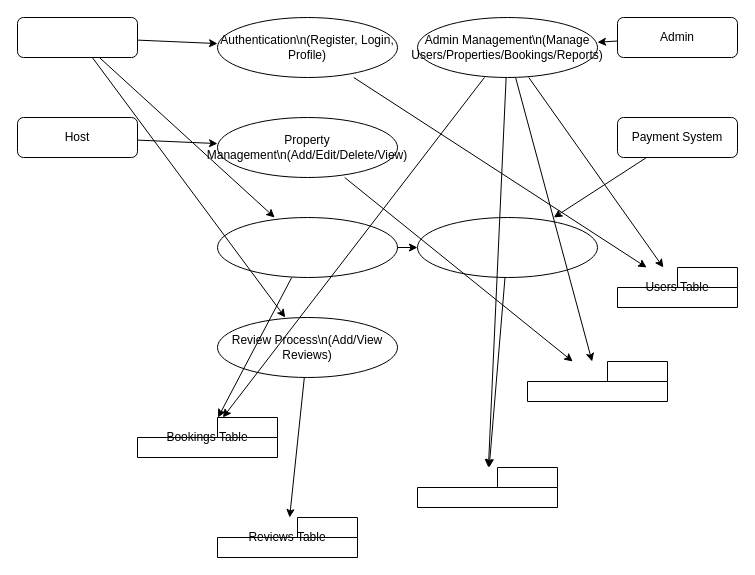
Some shapes in this 755 by 575 pixel diagram are drawn without their labels. The centre of each missing label's shape, as x and y in pixels:
Booking Process\n(Book/Cancel/View): the point at 307,247
Payment Process\n(Make Payment/Refund/View): the point at 507,247
Payments Table: the point at 487,487
Properties Table: the point at 597,381
User / Guest: the point at 77,37
